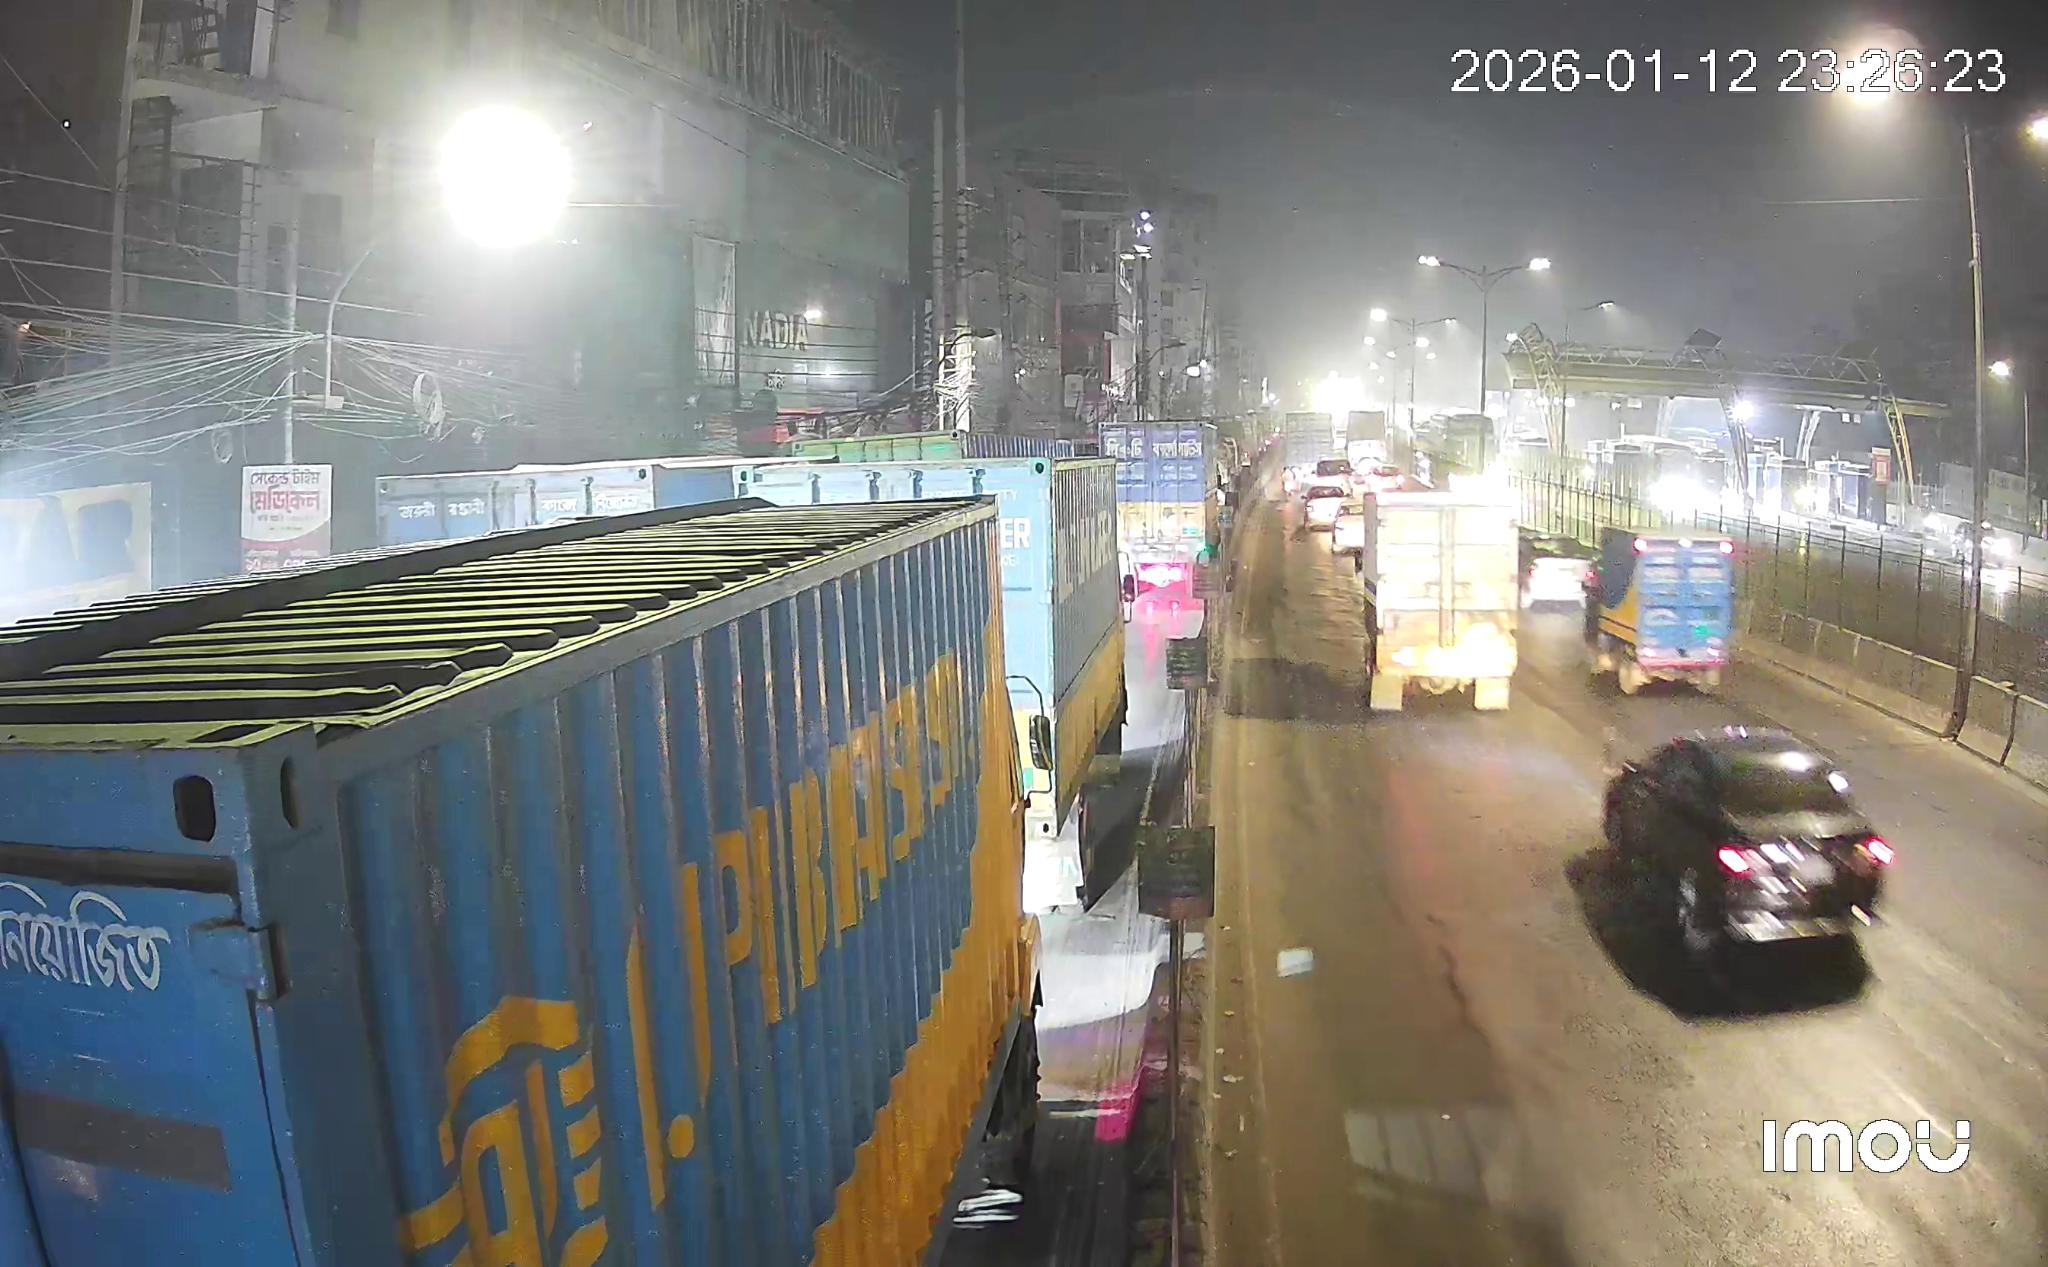Private-Sedan Car: (1602, 727, 1897, 966)
Truck: (0, 497, 1042, 1267), (742, 456, 1126, 911), (1356, 475, 1521, 711), (1584, 527, 1733, 695)
